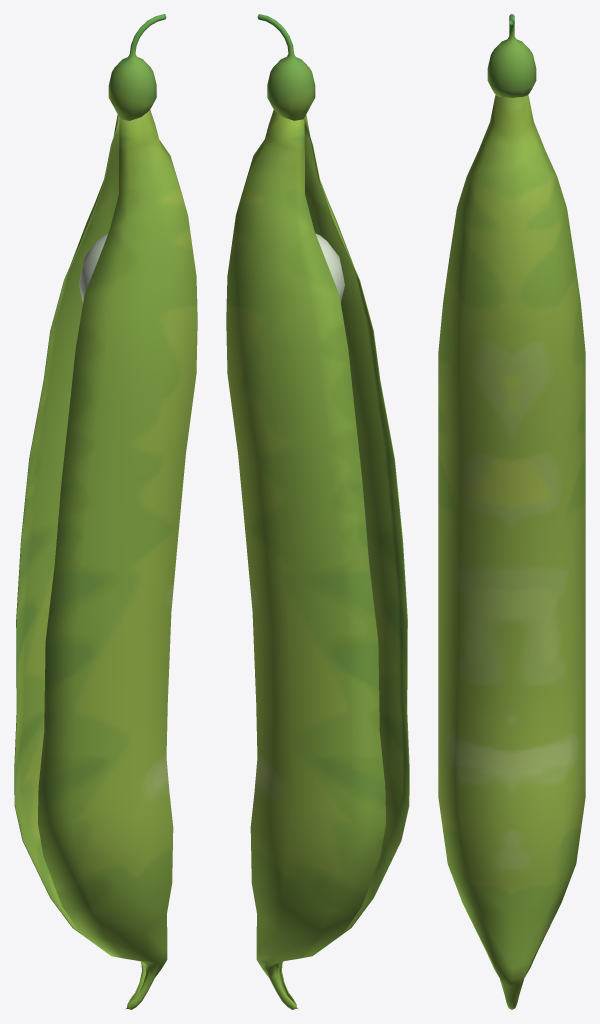
Rendered from beans_cut.FBX.
3 renders of one model, left to right at view 1: azimuth 30°, elevation 25°; view 2: azimuth 150°, elevation 25°; view 3: azimuth 270°, elevation 25°, orthographic.
Visible parts, largest first — view 1: bean_cut, bean_spheree; view 2: bean_cut, bean_spheree; view 3: bean_cut.
Part boxes in pixels (<box>): bean_cut: <box>14,14,197,1009</box>; bean_spheree: <box>79,234,107,302</box>; bean_cut: <box>226,14,409,1009</box>; bean_spheree: <box>316,233,344,302</box>; bean_cut: <box>438,14,585,1009</box>.
Size of the model in its own units: 9.07 by 51.34 by 6.8.
Materials: 2 (1 with a texture image).
